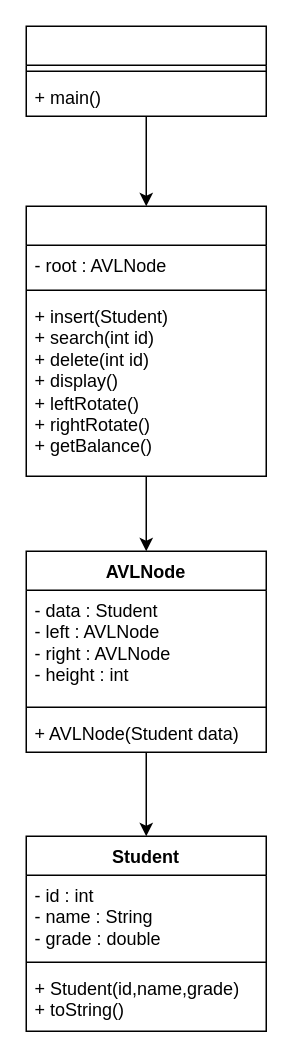
The diagram is 293 pixels wide and 1062 high, and some of its shapes have lost their labels. The shapes that lost their labels are listed below. From the top down, each one's box as (x1, y1, x2, y2) in pixels, then its label:
(25, 25, 266, 116): MainApp
(25, 205, 266, 476): AVLTree
